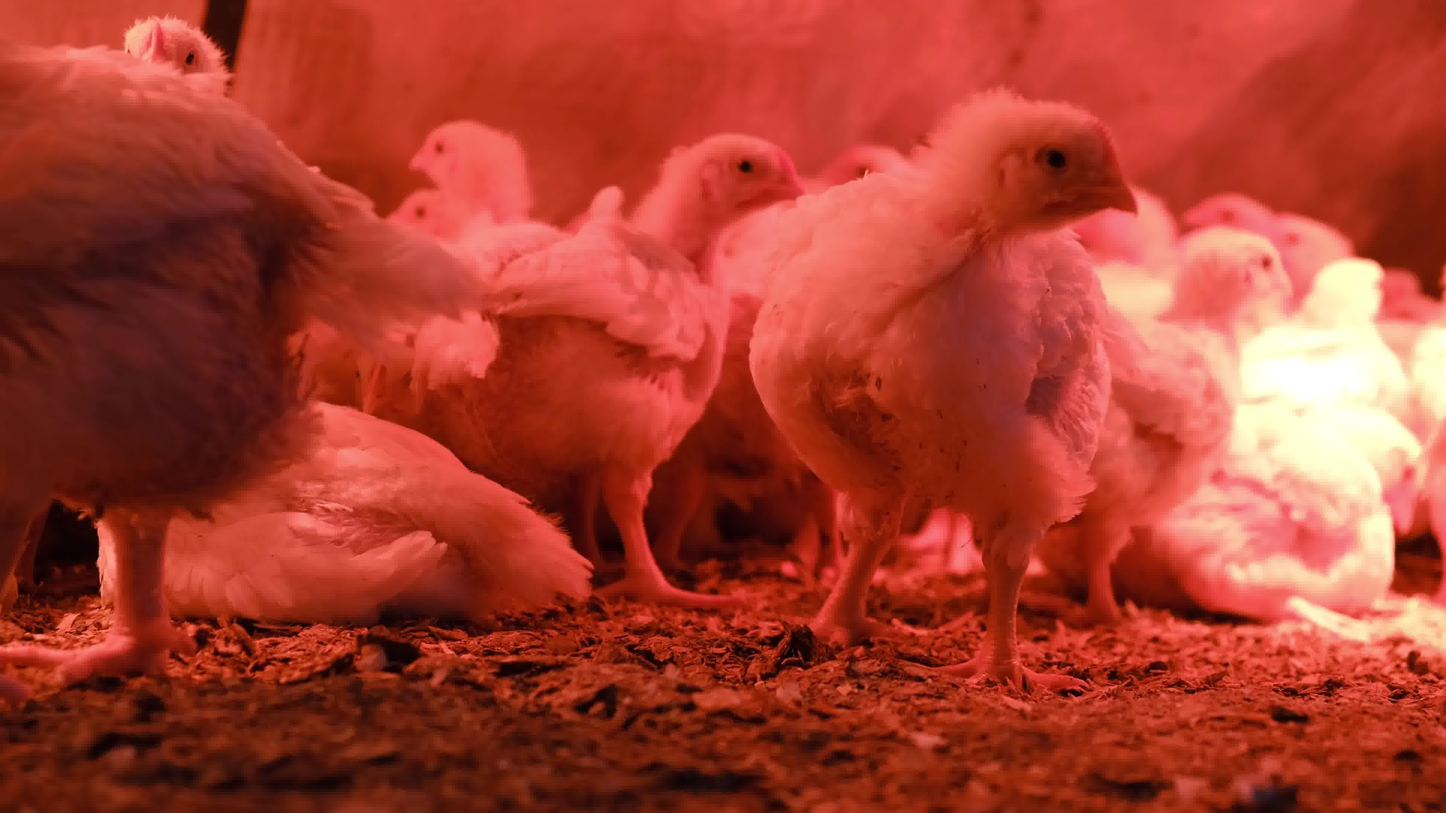AbNormal: (119, 391, 618, 636), (1188, 386, 1420, 640)
Normal: (0, 30, 350, 694), (763, 77, 1149, 679), (388, 120, 830, 629), (1081, 216, 1275, 625), (333, 64, 510, 275), (1288, 252, 1437, 442)
